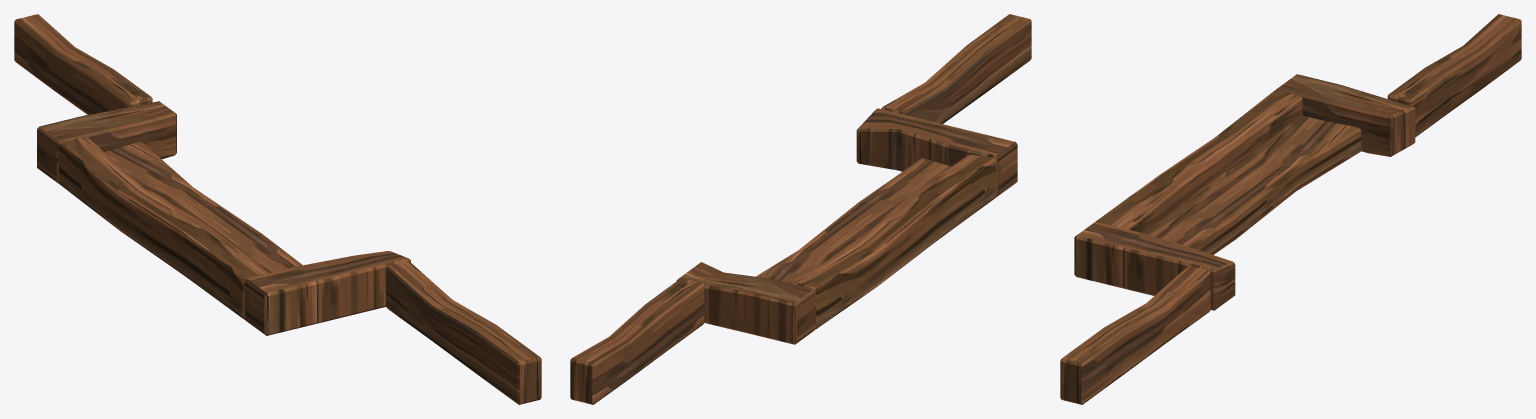
The model's file is Stairs_3.fbx.
The picture shows the model from 3 angles, left to right: view 1: azimuth 30°, elevation 25°; view 2: azimuth 150°, elevation 25°; view 3: azimuth 330°, elevation 25°; orthographic projection. The views are drawn at different scales.
Parts seen in each view (by area): view 1: 1_Stairs_3; view 2: 1_Stairs_3; view 3: 1_Stairs_3.
Boxes of the visible parts, x1,y1,x2,y2 form: 1_Stairs_3: [14, 14, 541, 404]; 1_Stairs_3: [570, 14, 1031, 404]; 1_Stairs_3: [1060, 14, 1521, 404].
Bounding box in the file's own units: 167 × 50.17 × 935.
